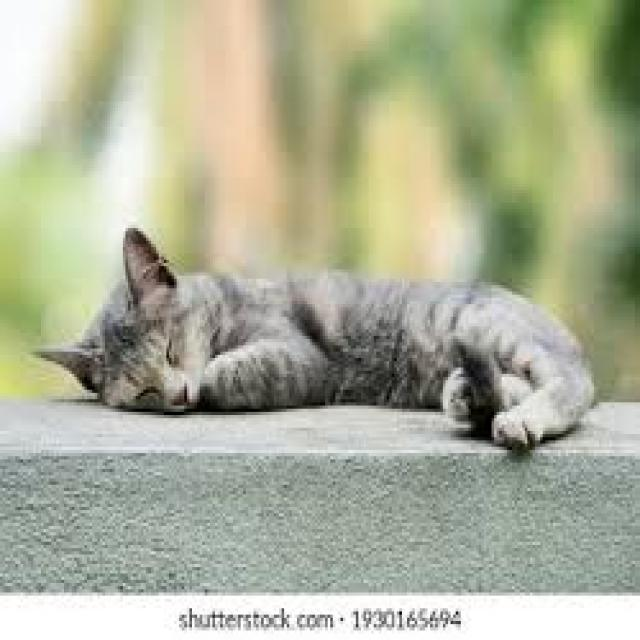Cat: (29, 222, 593, 453)
